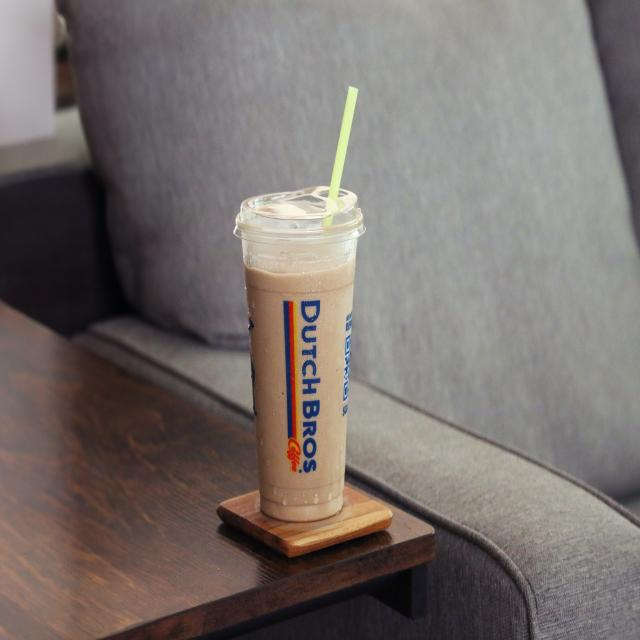cup: (232, 186, 365, 523)
